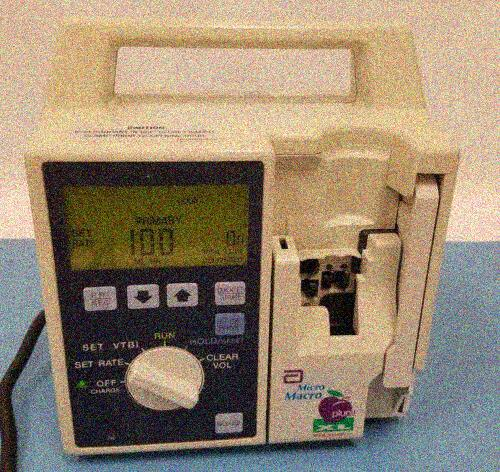plumxl1: (25, 12, 463, 456)
